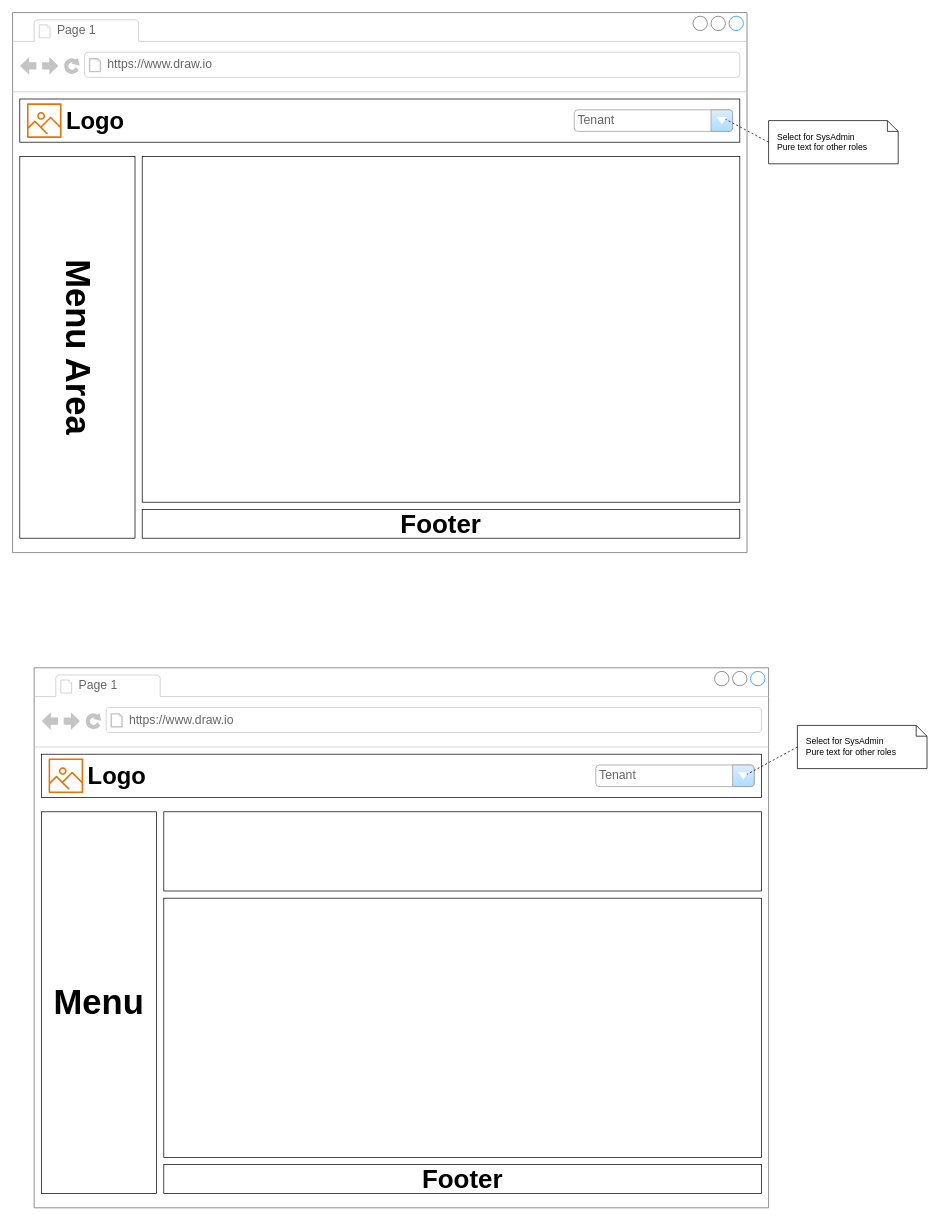
The diagram is 940 pixels wide and 1220 high, and some of its shapes have lost their labels. The centre of each missing label's shape, as x and y in pixels:
"Content" goes at pixel 440 329.
"Filters" goes at pixel 462 851.
"Result" goes at pixel 462 1027.
